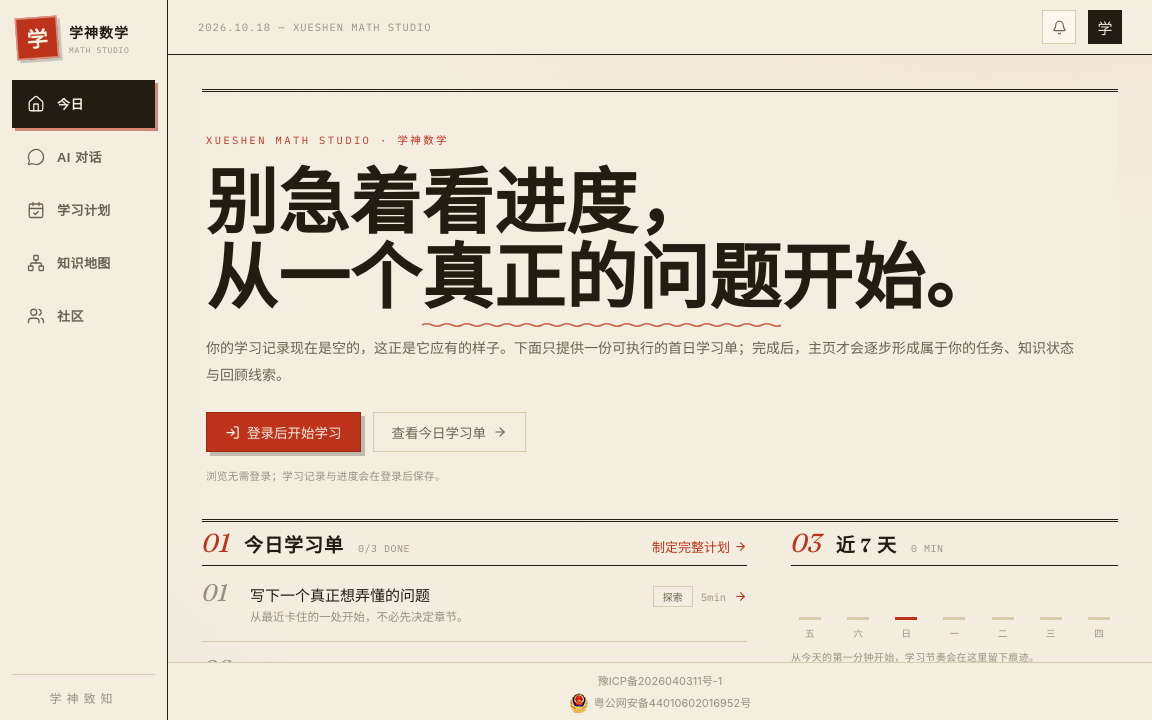
Test: App 通知面板（§6.5） › 局部失败：Memory 域失败仍展示社区通知并提示
Click the button named "通知": (1059,27) [1042,10,1076,44]
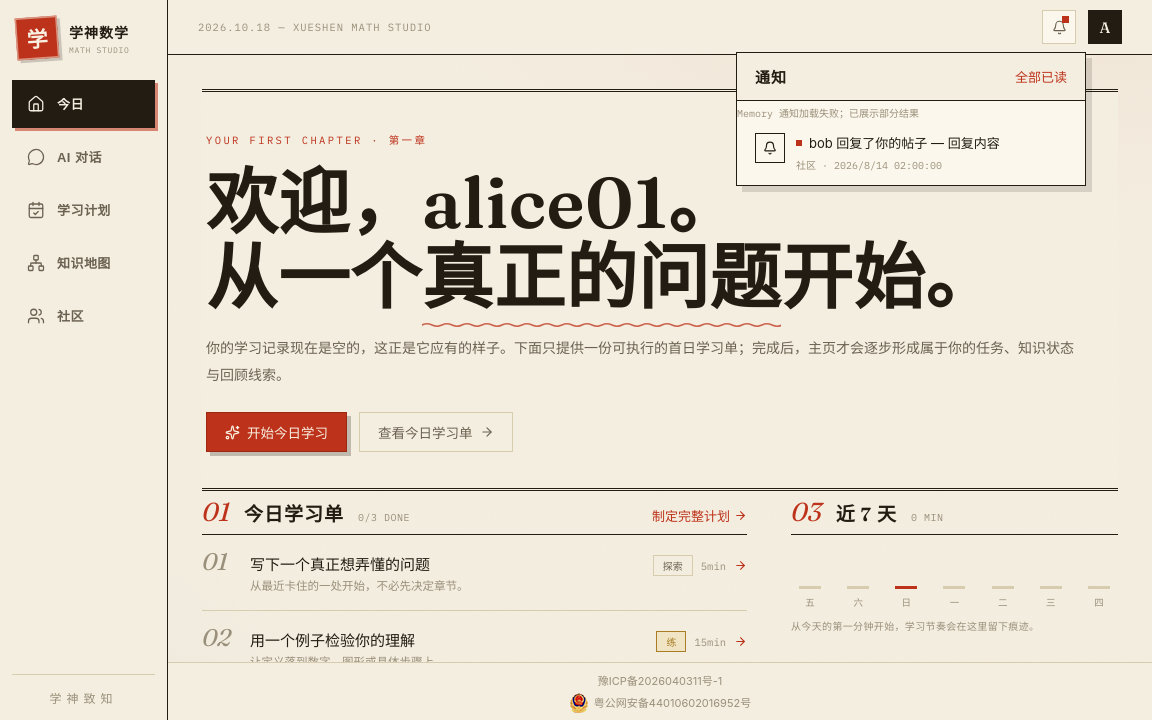
Now the text "bob 回复了你的帖子 — 回复内容" is shown, box [796,133,1000,153]
Now the text "Memory 通知加载失败；已展示部分结果" is shown, box [737,107,919,120]
